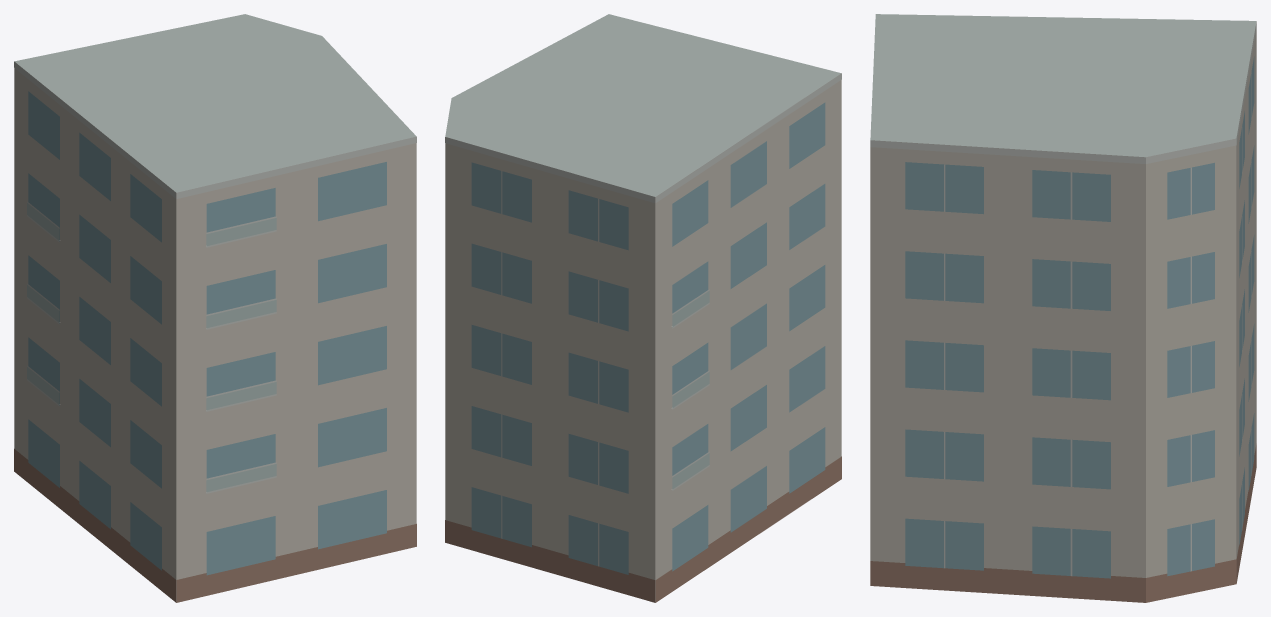
The model's file is survey-upis-32822008.glb.
3 views of the same model, side by side, from view 1: azimuth 30°, elevation 25°; view 2: azimuth 150°, elevation 25°; view 3: azimuth 270°, elevation 25° (orthographic). The views are drawn at different scales.
Parts seen in each view (by area): view 1: survey-upis-32822008.tmp; view 2: survey-upis-32822008.tmp; view 3: survey-upis-32822008.tmp.
Boxes of the visible parts, bbox=[...] form: survey-upis-32822008.tmp: bbox=[14, 14, 416, 602]; survey-upis-32822008.tmp: bbox=[445, 14, 841, 602]; survey-upis-32822008.tmp: bbox=[870, 14, 1256, 602].
Bounding box in the file's own units: 10.79 × 15.65 × 12.3.
